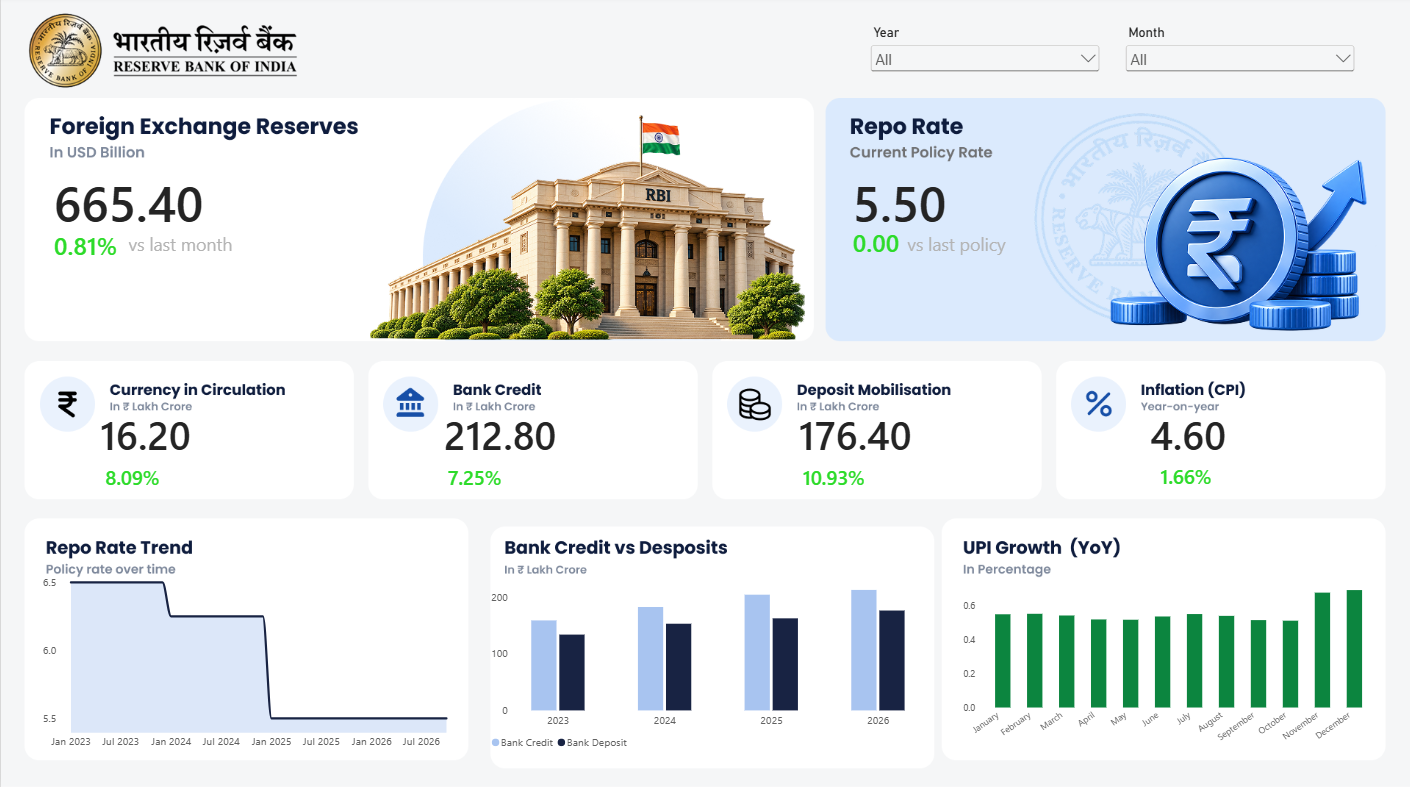

This screenshot's page, from the dashboard's own definition file:
{"tool":"powerbi","page":{"name":"Page 1","canvas":[1920,1080],"ordinal":0},"visuals":[{"type":"areaChart","fields":{"Category":["Calendar.YearMonth.Variation.Date Hierarchy.Year","Calendar.YearMonth.Variation.Date Hierarchy.Quarter","Calendar.YearMonth.Variation.Date Hierarchy.Month","Calendar.YearMonth.Variation.Date Hierarchy.Day"],"Y":["FactEconomic.Repo Rate"]},"box":[55.8,770.4,576.1,259],"z":0},{"type":"clusteredColumnChart","fields":{"Category":["Calendar.YearMonth.Variation.Date Hierarchy.Year","Calendar.YearMonth.Variation.Date Hierarchy.Quarter","Calendar.YearMonth.Variation.Date Hierarchy.Month"],"Y":["FactEconomic.Bank Credit","FactEconomic.Bank Deposit"]},"box":[667.7,770.4,584.7,259.7],"z":1000},{"type":"columnChart","fields":{"Category":["Calendar.YearMonth.Variation.Date Hierarchy.Year","Calendar.YearMonth.Variation.Date Hierarchy.Month"],"Y":["FactEconomic.UPI Growth YOY%"]},"box":[1305.8,797.7,564.2,233.5],"z":2000},{"type":"cardVisual","fields":{"Data":["FactEconomic.Forex Reserves"]},"box":[55.4,223.8,277.1,110.8],"z":3000},{"type":"cardVisual","fields":{"Data":["FactEconomic.Repo Rate"]},"box":[1142.5,223.8,277.1,110.8],"z":4000},{"type":"cardVisual","fields":{"Data":["FactEconomic.Forex Reserves MOM%"]},"box":[56,297,177.5,80.3],"z":5000},{"type":"cardVisual","fields":{"Data":["FactEconomic.Repo Rate Change"]},"box":[1143.3,295.2,177.5,80.3],"z":6000},{"type":"cardVisual","fields":{"Data":["FactEconomic.Currency Circulation"]},"box":[119.6,540.8,277.1,110.8],"z":7000},{"type":"cardVisual","fields":{"Data":["FactEconomic.Bank Credit"]},"box":[586.6,540.8,277.1,110.8],"z":8000},{"type":"cardVisual","fields":{"Data":["FactEconomic.Bank Deposit"]},"box":[1070.4,540.8,277.1,110.8],"z":9000},{"type":"cardVisual","fields":{"Data":["FactEconomic.Inflation CPI"]},"box":[1548.6,540.8,277.1,110.8],"z":10000},{"type":"cardVisual","fields":{"Data":["FactEconomic.Currency Circulation YOY%"]},"box":[125.9,614.2,177.5,80.3],"z":11000},{"type":"cardVisual","fields":{"Data":["FactEconomic.Bank Credit YOY%"]},"box":[592.1,624.4,149.4,59.8],"z":12000},{"type":"cardVisual","fields":{"Data":["FactEconomic.Bank Deposit YOY%"]},"box":[1075.2,614.2,177.5,80.3],"z":13000},{"type":"cardVisual","fields":{"Data":["FactEconomic.Inflation MOM Change"]},"box":[1561.8,612.5,168.1,82.2],"z":14000},{"type":"slicer","fields":{"Values":["Calendar.Month"]},"box":[1526.2,39.2,321.3,71],"z":15000},{"type":"slicer","fields":{"Values":["Calendar.Date.Variation.Date Hierarchy.Year"]},"box":[1178.8,39.2,321.3,71],"z":15001},{"type":"textbox","box":[174.2,321.6,259,55.8],"z":15002},{"type":"textbox","box":[1232.7,321.6,259,55.8],"z":15003}]}

Visuals, with their boxes in screenshot pixels (x1, y1, x2, y2), scaled from the page's 1920x1080 canvas onto the 1410x787 screenshot:
areaChart - Calendar.YearMonth.Variation.Date Hierarchy.Year x Calendar.YearMonth.Variation.Date Hierarchy.Quarter: [41,561,464,750]
clusteredColumnChart - Calendar.YearMonth.Variation.Date Hierarchy.Year x Calendar.YearMonth.Variation.Date Hierarchy.Quarter: [490,561,920,751]
columnChart - Calendar.YearMonth.Variation.Date Hierarchy.Year x Calendar.YearMonth.Variation.Date Hierarchy.Month: [959,581,1373,751]
cardVisual - FactEconomic.Forex Reserves: [41,163,244,244]
cardVisual - FactEconomic.Repo Rate: [839,163,1043,244]
cardVisual - FactEconomic.Forex Reserves MOM%: [41,216,171,275]
cardVisual - FactEconomic.Repo Rate Change: [840,215,970,274]
cardVisual - FactEconomic.Currency Circulation: [88,394,291,475]
cardVisual - FactEconomic.Bank Credit: [431,394,634,475]
cardVisual - FactEconomic.Bank Deposit: [786,394,990,475]
cardVisual - FactEconomic.Inflation CPI: [1137,394,1341,475]
cardVisual - FactEconomic.Currency Circulation YOY%: [92,448,223,506]
cardVisual - FactEconomic.Bank Credit YOY%: [435,455,545,499]
cardVisual - FactEconomic.Bank Deposit YOY%: [790,448,920,506]
cardVisual - FactEconomic.Inflation MOM Change: [1147,446,1270,506]
slicer - Calendar.Month: [1121,29,1357,80]
slicer - Calendar.Date.Variation.Date Hierarchy.Year: [866,29,1102,80]
textbox: [128,234,318,275]
textbox: [905,234,1095,275]
